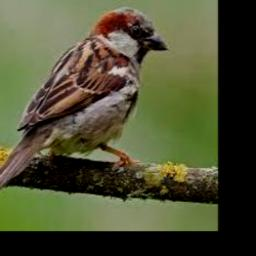Sparrow: (0, 7, 169, 197)
